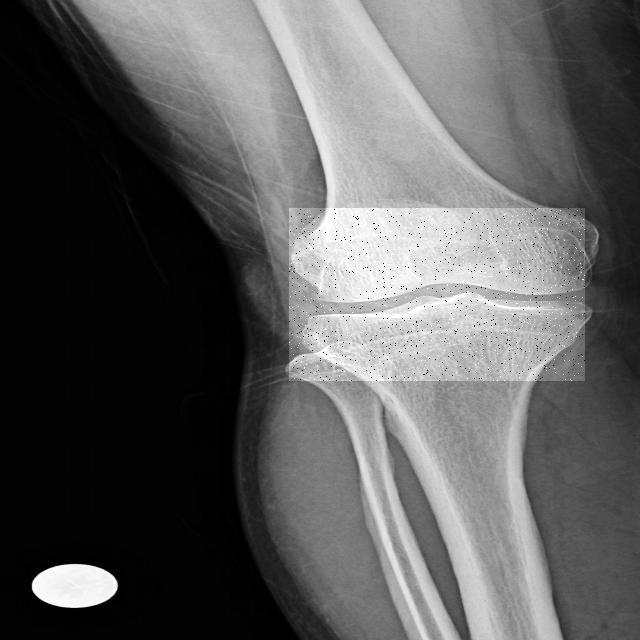normal: (289, 208, 585, 381)
